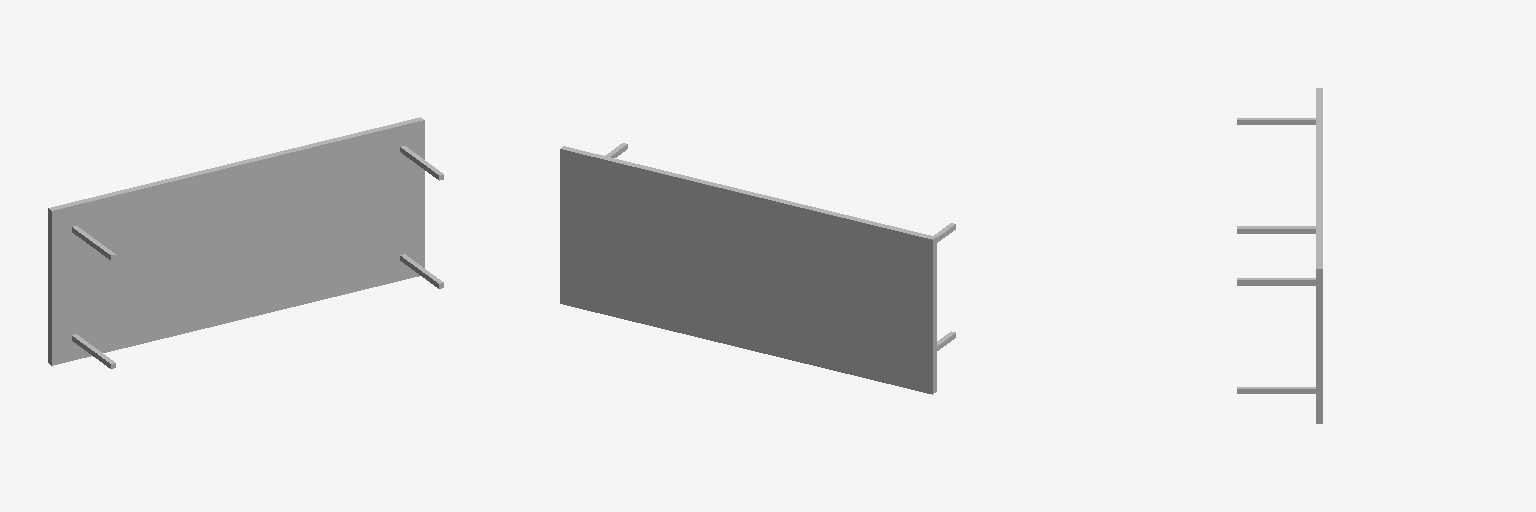
File: random_table73.obj
3 renders of one model, left to right at view 1: azimuth 30°, elevation 25°; view 2: azimuth 150°, elevation 25°; view 3: azimuth 270°, elevation 25°, orthographic.
Parts seen in each view (by area): view 1: Table_Cube.1430; view 2: Table_Cube.1430; view 3: Table_Cube.1430, TableLeg0_Cube.1431, TableLeg3_Cube.1434, TableLeg1_Cube.1432, TableLeg2_Cube.1433.
Boxes of the visible parts, x1,y1,x2,y2 form: Table_Cube.1430: [48, 117, 424, 365]; Table_Cube.1430: [560, 146, 936, 394]; Table_Cube.1430: [1316, 88, 1322, 423]; TableLeg0_Cube.1431: [1237, 278, 1315, 285]; TableLeg3_Cube.1434: [1237, 226, 1315, 233]; TableLeg1_Cube.1432: [1237, 118, 1315, 124]; TableLeg2_Cube.1433: [1237, 387, 1315, 393].
Size of the model in its own units: 11.67 by 4.64 by 2.34.